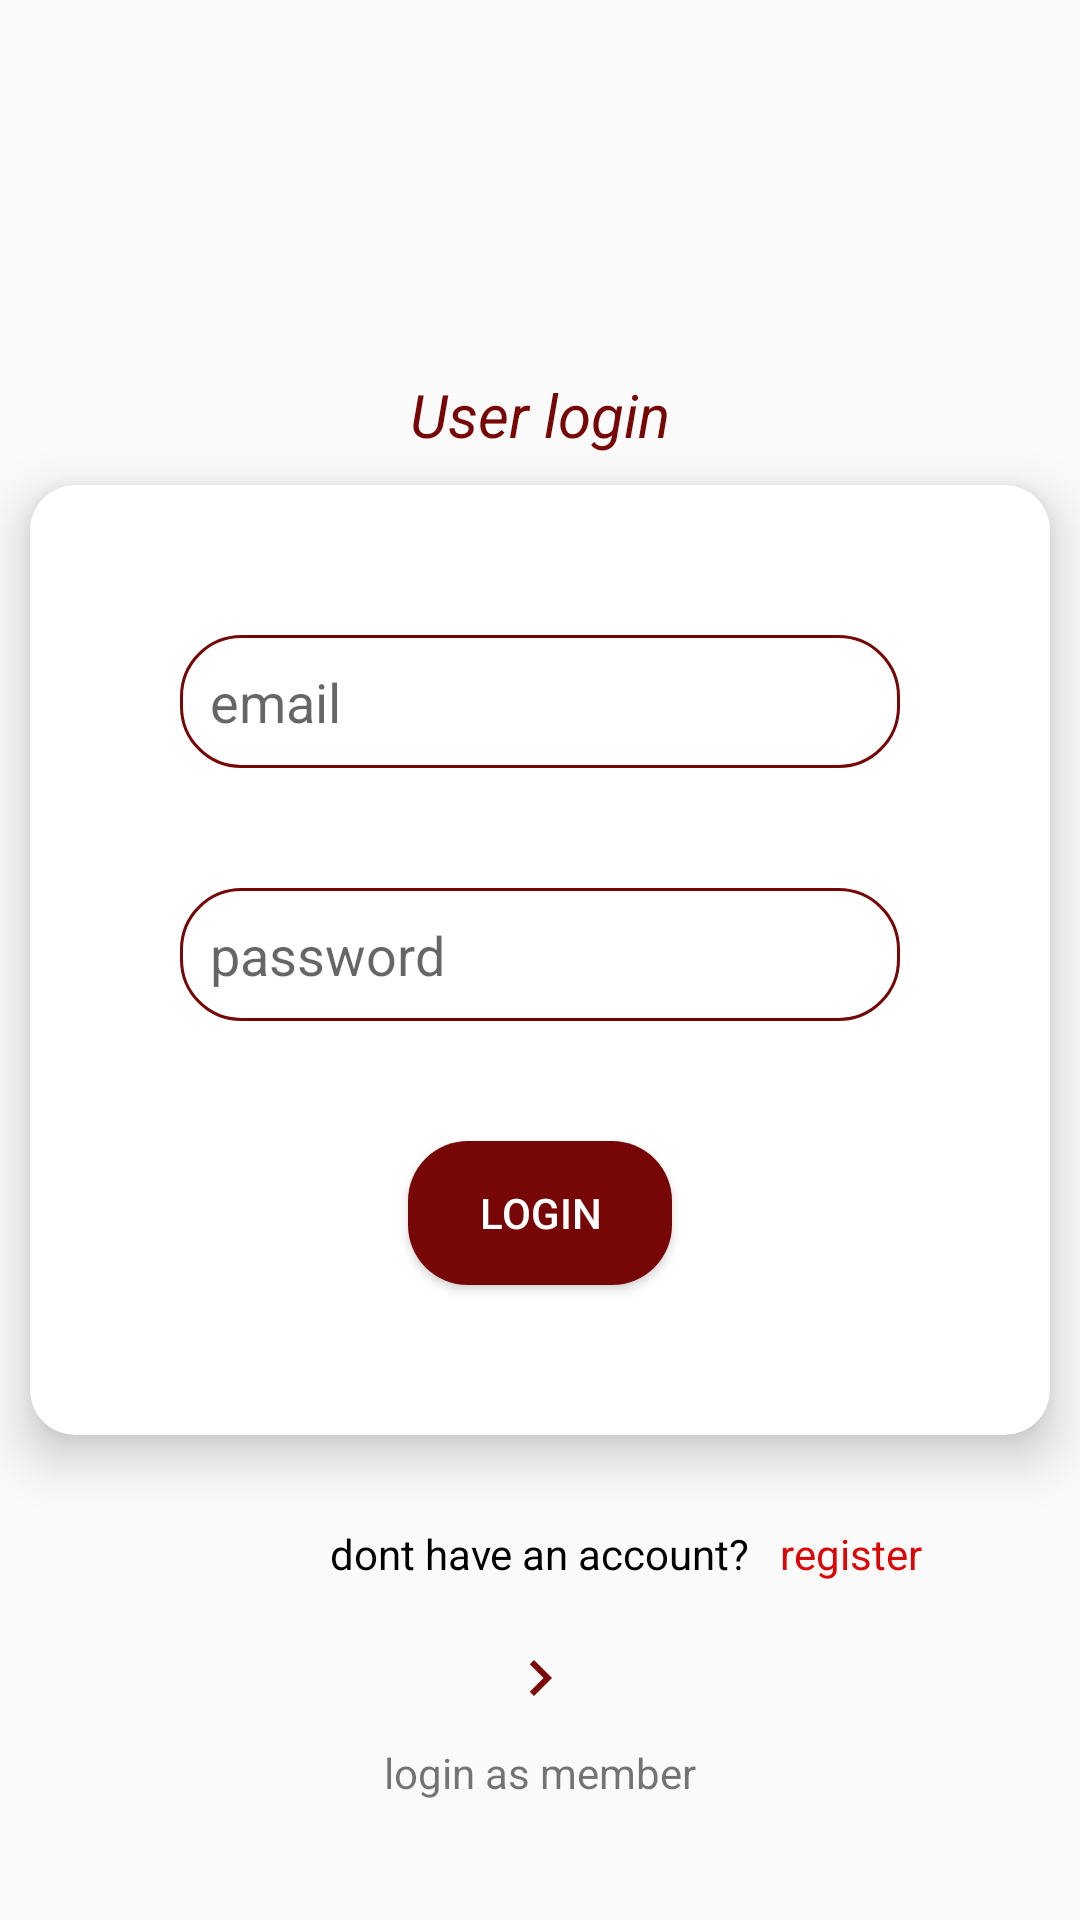

Icons on this 1080*1920 Android screen, each with the point to tap as point (x, y):
redirect: point (541, 1678)
